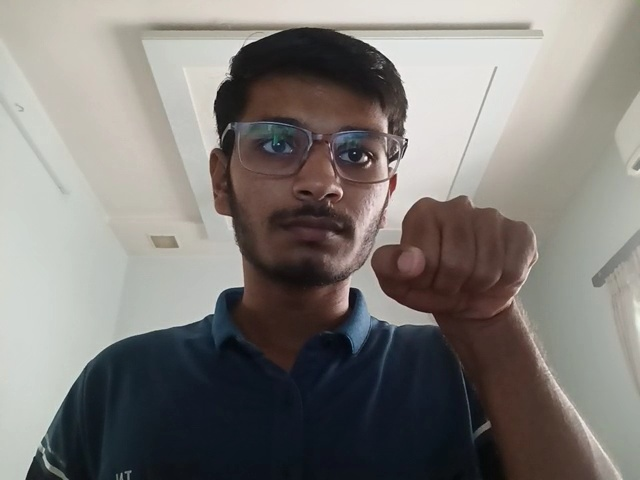Yes: (364, 188, 560, 335)
